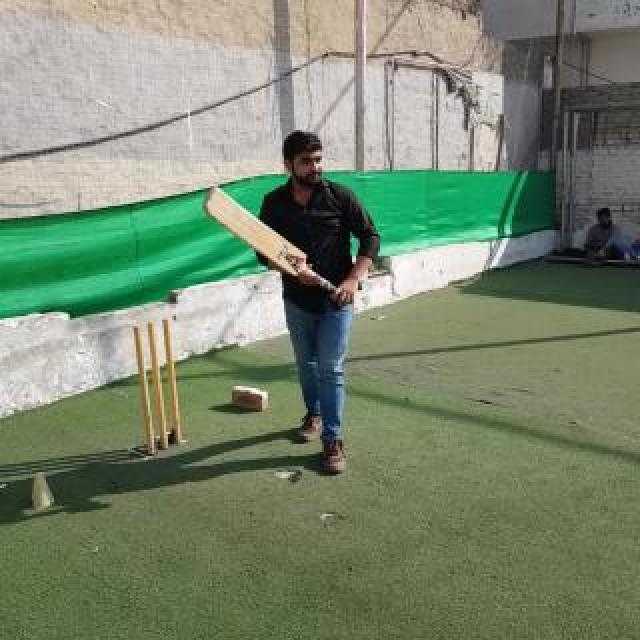bat: (202, 185, 344, 301)
